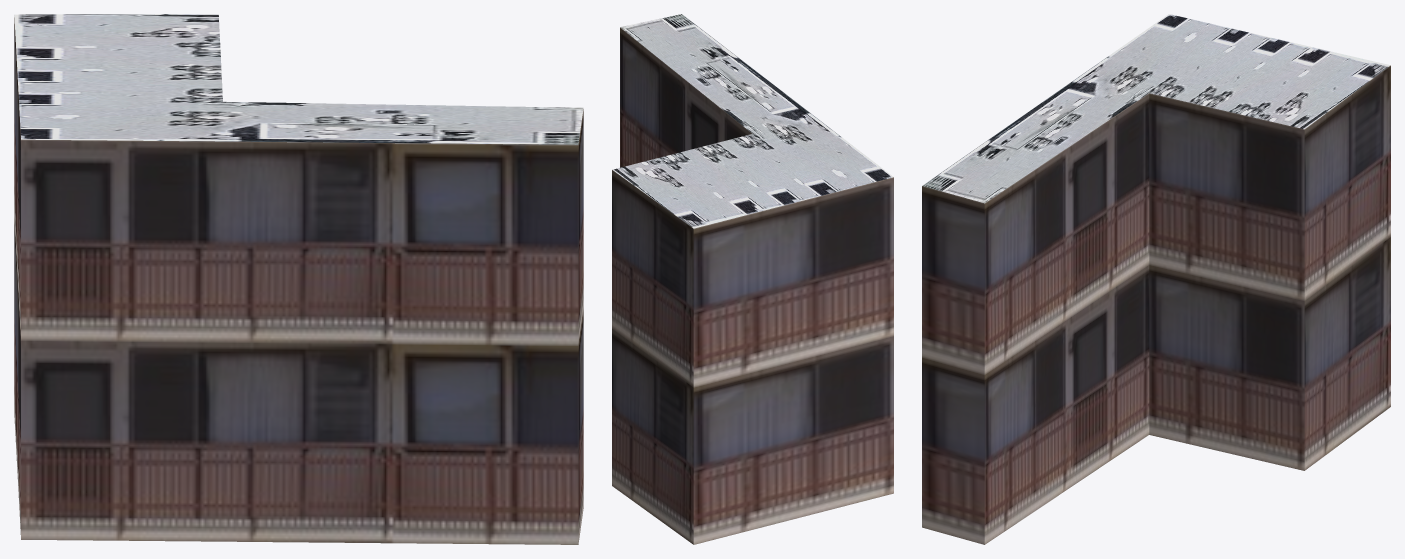
The model's file is ResTex__1140.fbx.
3 views of the same model, side by side, from view 1: azimuth 30°, elevation 25°; view 2: azimuth 150°, elevation 25°; view 3: azimuth 270°, elevation 25° (orthographic). The views are drawn at different scales.
Parts seen in each view (by area): view 1: CityEngineMaterial_6_m, CityEngineMaterial_m; view 2: CityEngineMaterial_6_m, CityEngineMaterial_m; view 3: CityEngineMaterial_6_m, CityEngineMaterial_m.
Part boxes in pixels (x1=…): CityEngineMaterial_6_m: x1=14, y1=17, x2=583, y2=544; CityEngineMaterial_m: x1=14, y1=14, x2=583, y2=144; CityEngineMaterial_6_m: x1=612, y1=27, x2=893, y2=544; CityEngineMaterial_m: x1=612, y1=14, x2=893, y2=228; CityEngineMaterial_6_m: x1=922, y1=65, x2=1390, y2=544; CityEngineMaterial_m: x1=922, y1=14, x2=1390, y2=203.
Size of the model in its own units: 7.13 by 6 by 7.46.
Materials: 2 (2 with a texture image).
